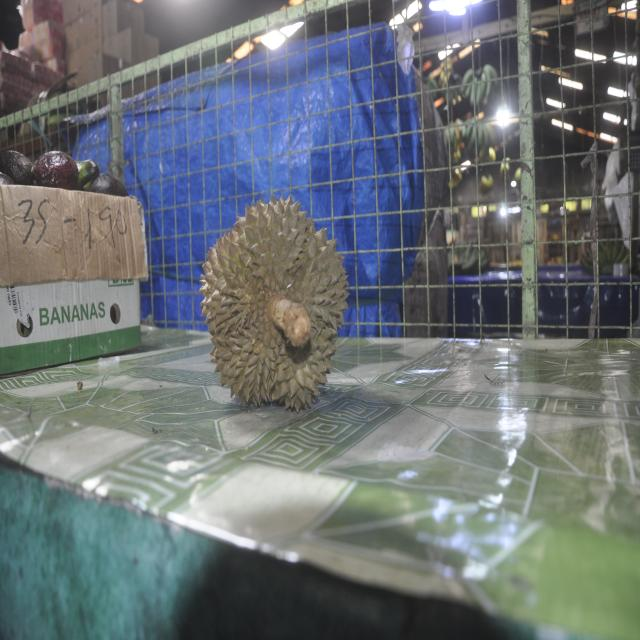mature: (200, 196, 348, 411)
